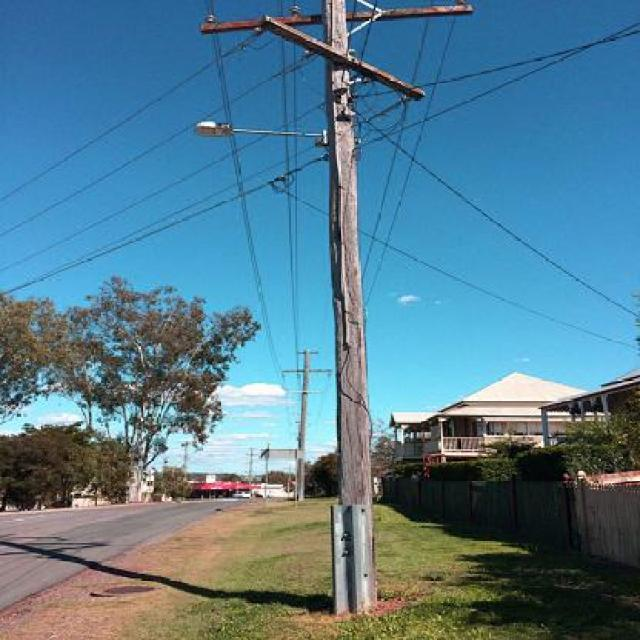light_pole: (203, 6, 476, 618)
